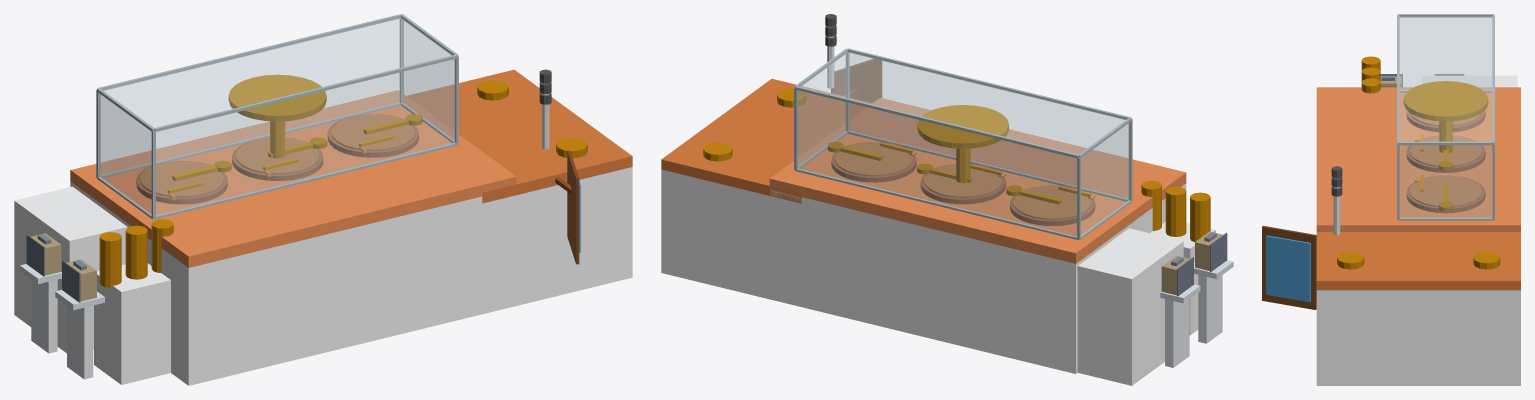
File: CMP.glb
3 renders of one model, left to right at view 1: azimuth 30°, elevation 25°; view 2: azimuth 150°, elevation 25°; view 3: azimuth 270°, elevation 25°, orthographic. The views are drawn at different scales.
Visible parts, largest first — view 1: p00001, p00002, p00061, p00062, p00027, p00065, p00028, p00023, p00033, p00063, p00064, p00022 (+23 smaller); view 2: p00001, p00002, p00062, p00061, p00027, p00065, p00033, p00028, p00063, p00064, p00022, p00016 (+22 smaller); view 3: p00002, p00027, p00065, p00028, p00064, p00063, p00022, p00060, p00016, p00059, p00010, p00033 (+16 smaller).
Part boxes in pixels (x1=…): p00001: x1=70, y1=181, x2=516, y2=385; p00002: x1=70, y1=90, x2=516, y2=267; p00061: x1=156, y1=59, x2=455, y2=215; p00062: x1=101, y1=19, x2=399, y2=175; p00027: x1=482, y1=167, x2=632, y2=314; p00065: x1=102, y1=17, x2=452, y2=127; p00028: x1=407, y1=69, x2=632, y2=203; p00023: x1=94, y1=263, x2=170, y2=384; p00033: x1=14, y1=186, x2=127, y2=353; p00063: x1=99, y1=94, x2=151, y2=214; p00064: x1=403, y1=20, x2=453, y2=139; p00022: x1=228, y1=74, x2=326, y2=121; p00001: x1=769, y1=183, x2=1186, y2=373; p00002: x1=769, y1=98, x2=1186, y2=263; p00062: x1=797, y1=90, x2=1076, y2=236; p00061: x1=849, y1=53, x2=1127, y2=198; p00027: x1=661, y1=169, x2=801, y2=306; p00065: x1=800, y1=51, x2=1126, y2=154; p00033: x1=1077, y1=228, x2=1183, y2=385; p00028: x1=661, y1=78, x2=871, y2=203; p00063: x1=1081, y1=123, x2=1129, y2=235; p00064: x1=798, y1=54, x2=845, y2=165; p00022: x1=917, y1=105, x2=1008, y2=148; p00016: x1=835, y1=142, x2=912, y2=176; p00002: x1=1316, y1=87, x2=1520, y2=231; p00027: x1=1316, y1=290, x2=1520, y2=385; p00065: x1=1400, y1=16, x2=1491, y2=141; p00028: x1=1316, y1=232, x2=1520, y2=290; p00064: x1=1400, y1=145, x2=1491, y2=217; p00063: x1=1400, y1=18, x2=1491, y2=89; p00022: x1=1403, y1=81, x2=1488, y2=121; p00060: x1=1266, y1=235, x2=1310, y2=302; p00016: x1=1410, y1=175, x2=1481, y2=206; p00059: x1=1262, y1=225, x2=1316, y2=309; p00010: x1=1410, y1=136, x2=1481, y2=166; p00033: x1=1422, y1=75, x2=1517, y2=87.
Bounding box in the file's own units: 7.71 × 3.07 × 3.8.
